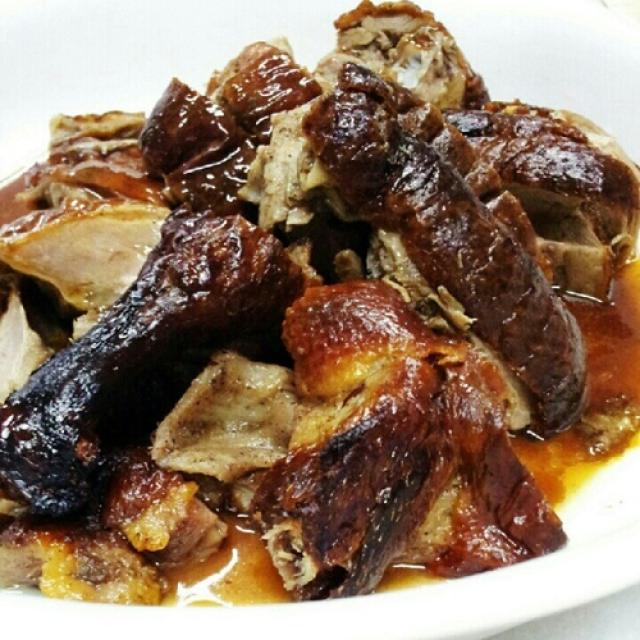烧串烤肉: (19, 28, 603, 597)
